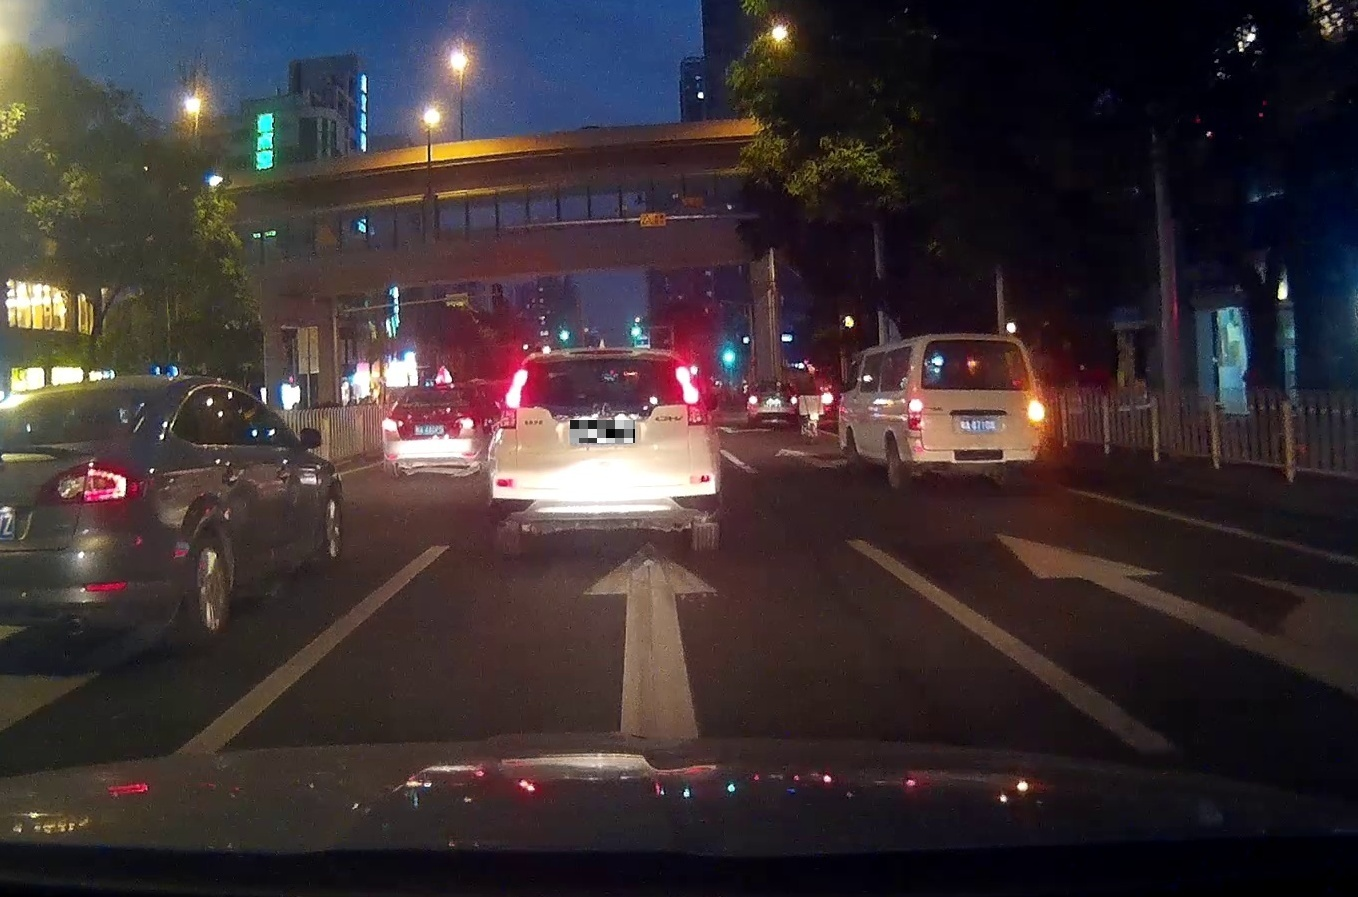L_light: (499, 368, 527, 429), (908, 398, 923, 430), (382, 417, 398, 432)
R_light: (674, 366, 709, 426), (1028, 398, 1044, 426), (455, 417, 474, 428)
T_light: (592, 358, 620, 366), (966, 339, 985, 345), (435, 389, 449, 394)
night-no: (488, 347, 721, 550), (382, 382, 475, 478)
night-right: (907, 333, 1045, 487)
plate_1: (570, 420, 635, 443)
